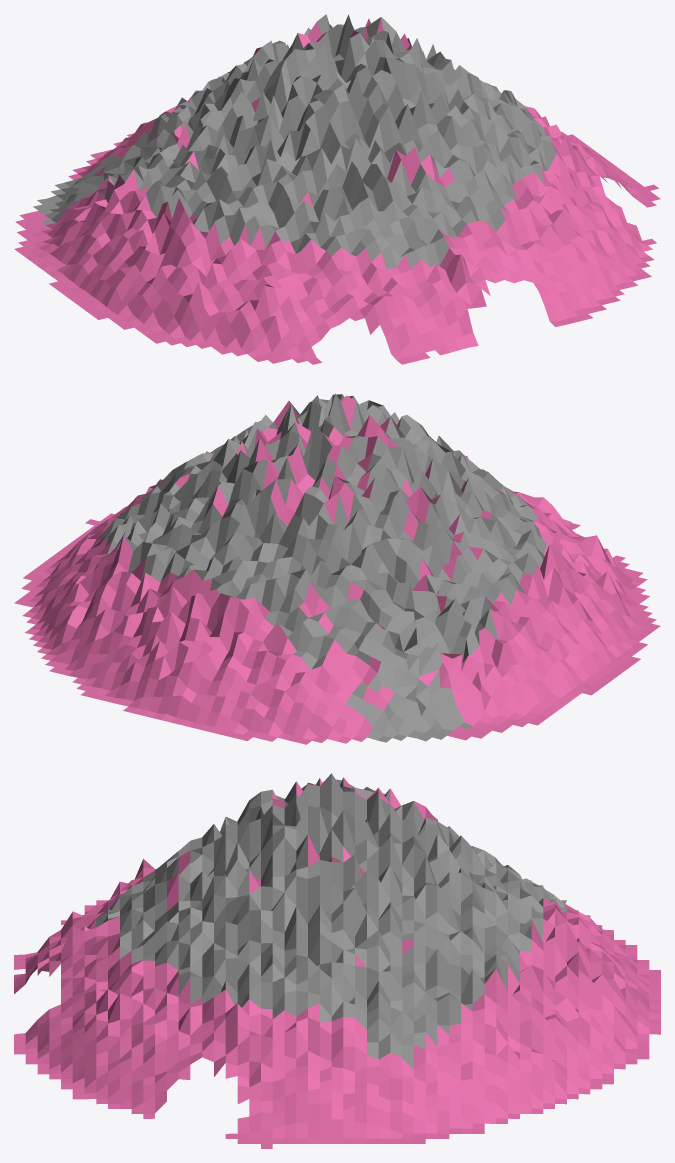
File: Montagne Tuyau 2.fbx
3 renders of one model, top to bottom at view 1: azimuth 30°, elevation 25°; view 2: azimuth 150°, elevation 25°; view 3: azimuth 270°, elevation 25°, orthographic. The views are drawn at different scales.
Parts seen in each view (by area): view 1: Plane; view 2: Plane; view 3: Plane.
Part boxes in pixels (x1,y1,x2,y2): Plane: (14,14,660,364); Plane: (14,393,660,744); Plane: (14,773,660,1148).
Size of the model in its own units: 6138 by 2300 by 5821.
